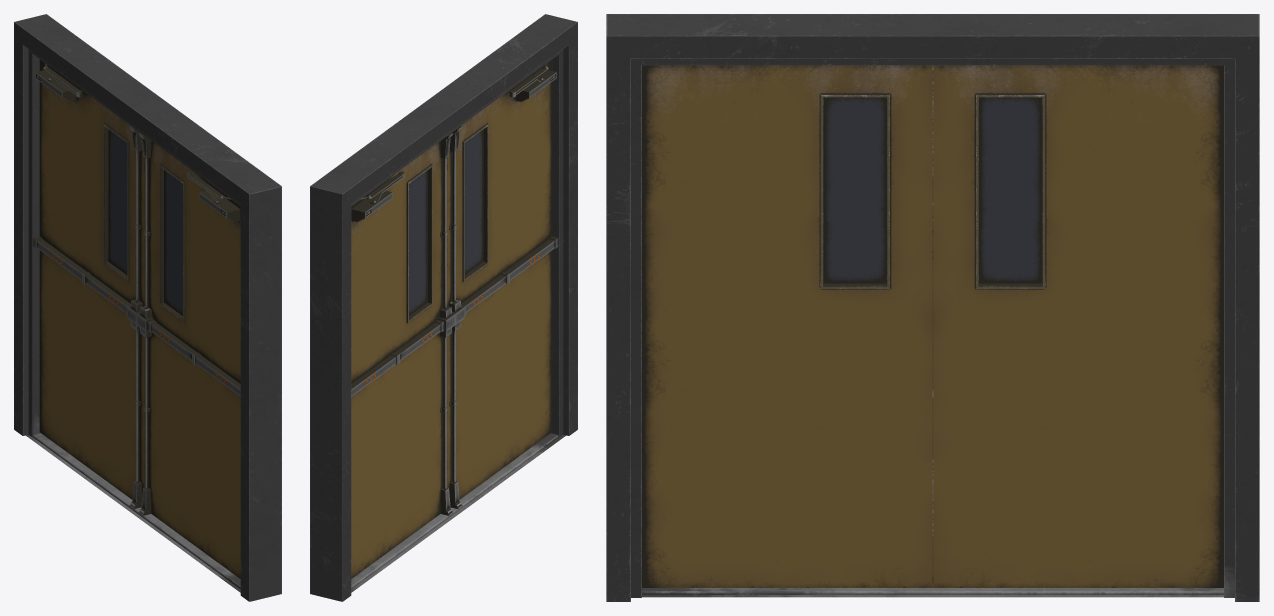
File: puertadoble.glb
3 renders of one model, left to right at view 1: azimuth 30°, elevation 25°; view 2: azimuth 150°, elevation 25°; view 3: azimuth 270°, elevation 25°, orthographic. The views are drawn at different scales.
Parts seen in each view (by area): view 1: 01_01_0, 02_02_0; view 2: 01_01_0, 02_02_0; view 3: 01_01_0, 02_02_0.
Part boxes in pixels (x1,y1,x2,y2): 01_01_0: [33, 59, 240, 578]; 02_02_0: [14, 14, 281, 601]; 01_01_0: [351, 59, 558, 578]; 02_02_0: [310, 14, 577, 601]; 01_01_0: [642, 65, 1223, 587]; 02_02_0: [606, 14, 1259, 601].
Bounding box in the file's own units: 24.74 × 289 × 303.
2 materials, 2 textured.
